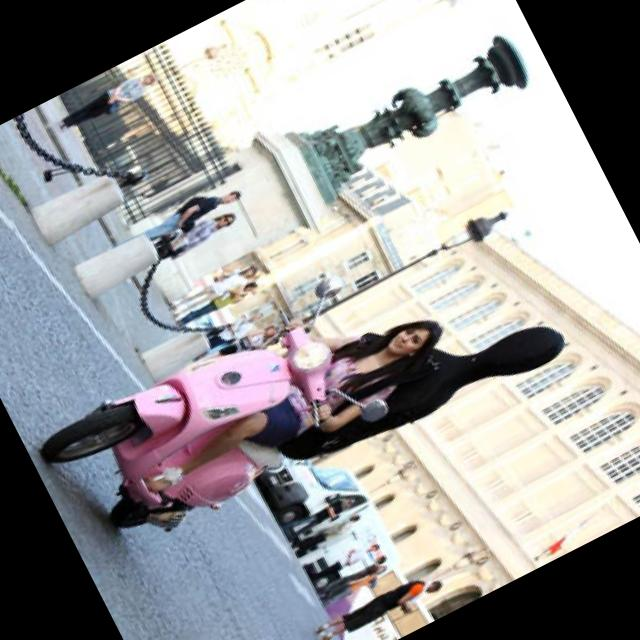bareface: (368, 296, 461, 381)
